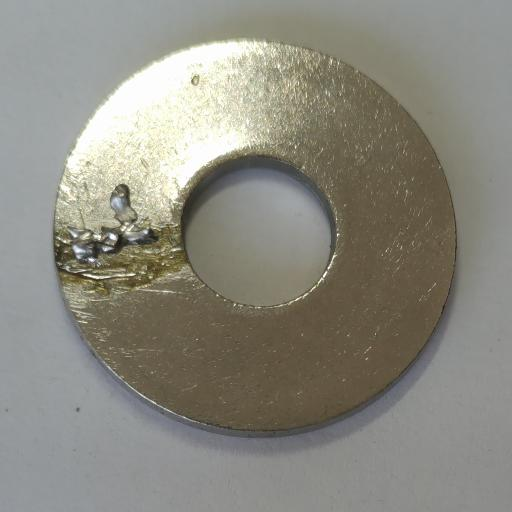excess_material: (54, 184, 184, 280)
